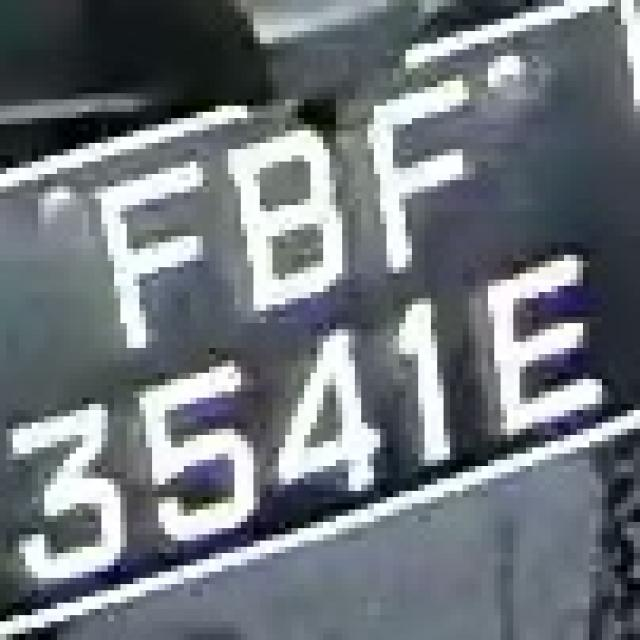1: (380, 267, 456, 479)
3: (13, 385, 139, 597)
4: (247, 310, 393, 510)
5: (120, 342, 272, 553)
B: (209, 93, 368, 317)
E: (475, 248, 596, 448)
F: (70, 130, 228, 367), (348, 69, 501, 274)
